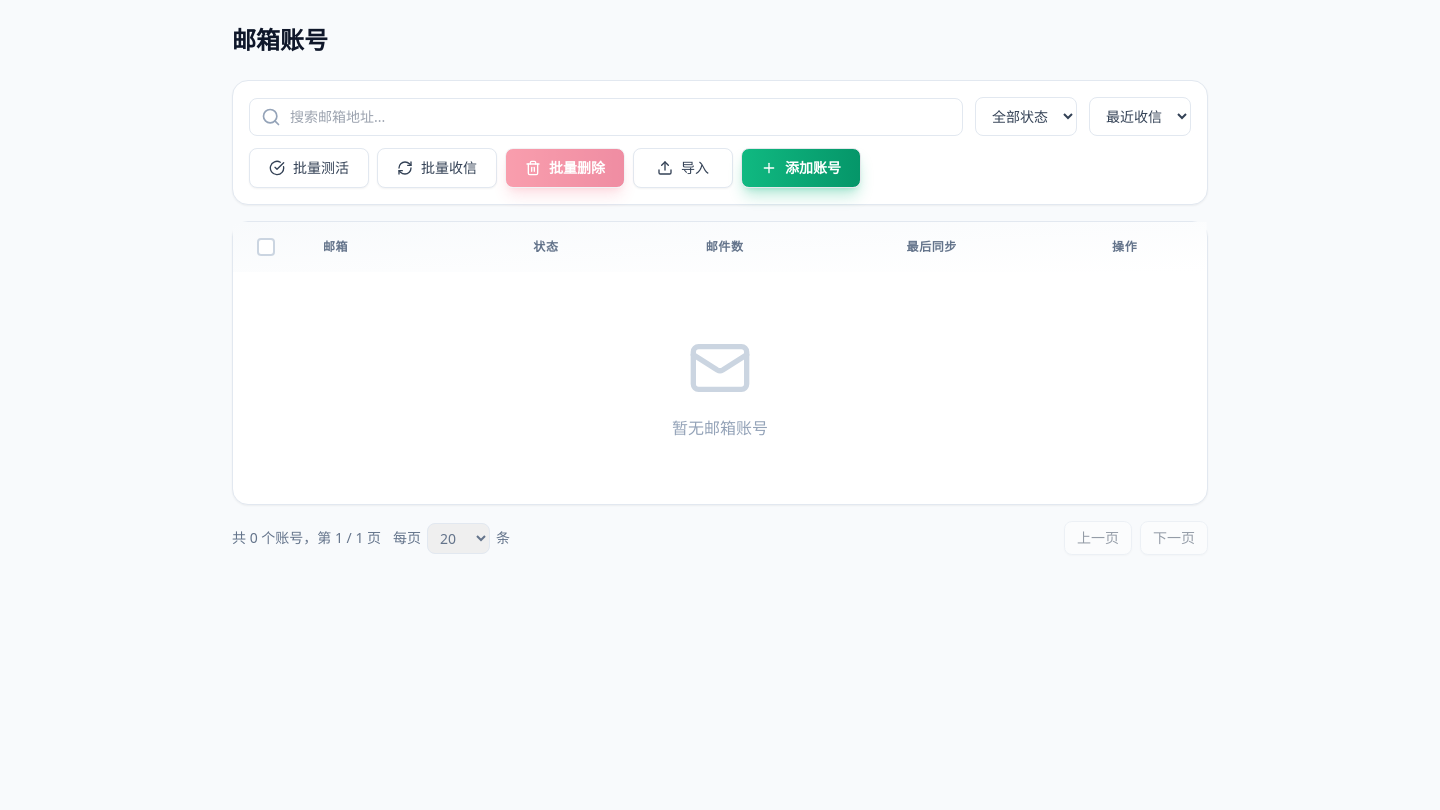
Test: AccountsPage › 通过弹窗新增账号后刷新列表
The image size is (1440, 810).
Click the button "添加账号".
click(801, 168)  # box [741,148,861,188]
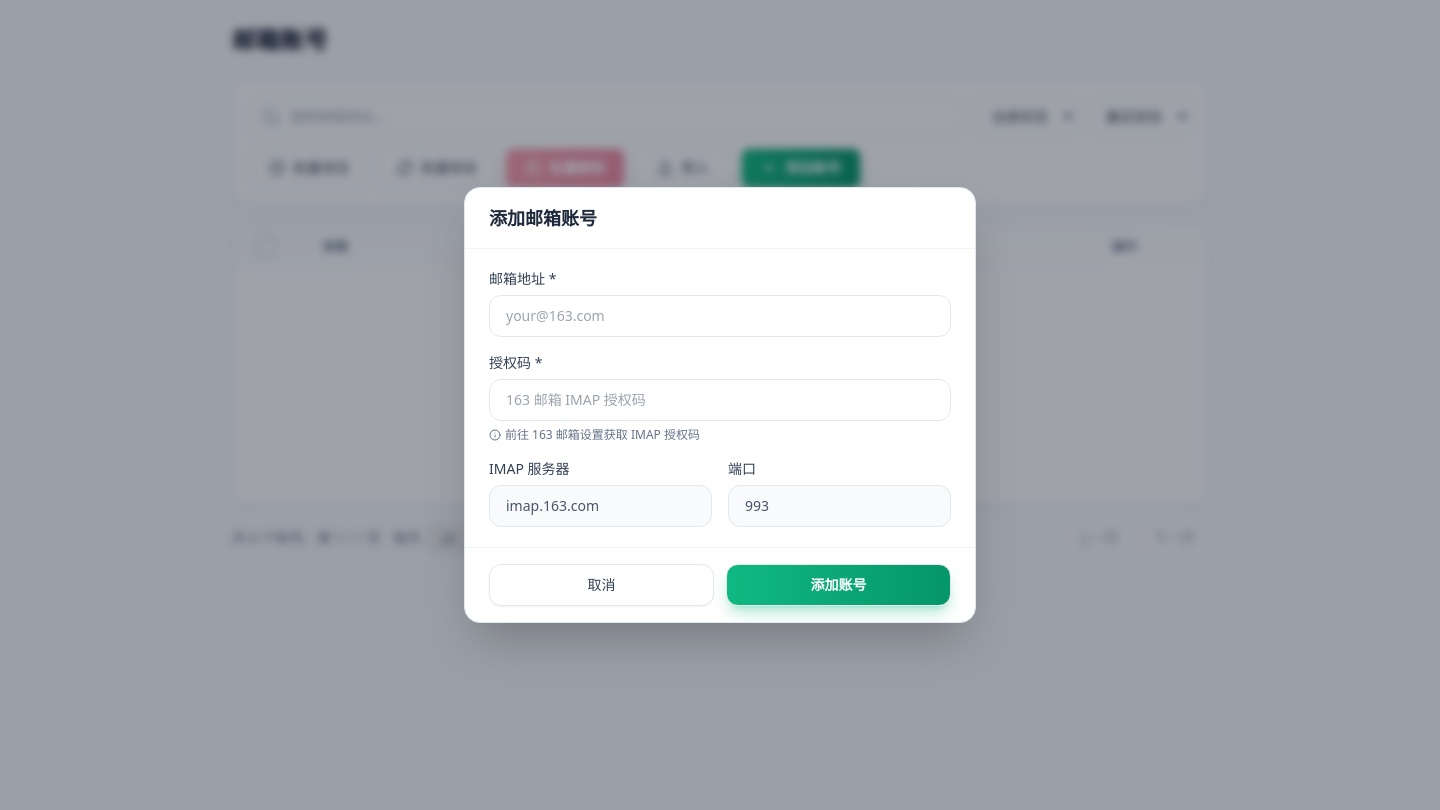
Type "new@163.com" into the field labelled "邮箱地址 *".
click(720, 316); type("new@163.com")  # box [489,295,951,337]
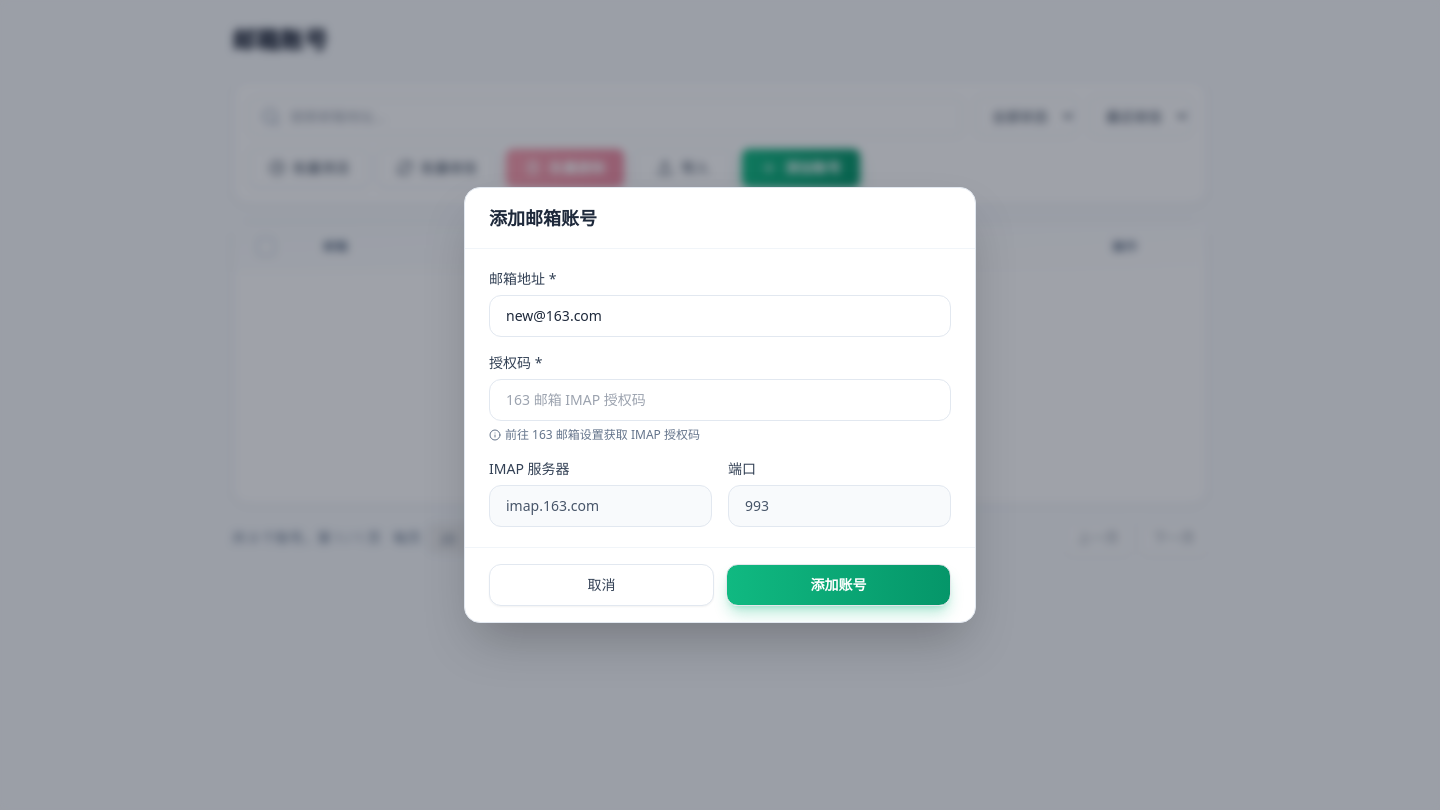
Type "auth-code" into the password field labelled "授权码 *".
click(720, 400); type("auth-code")  # box [489,379,951,421]
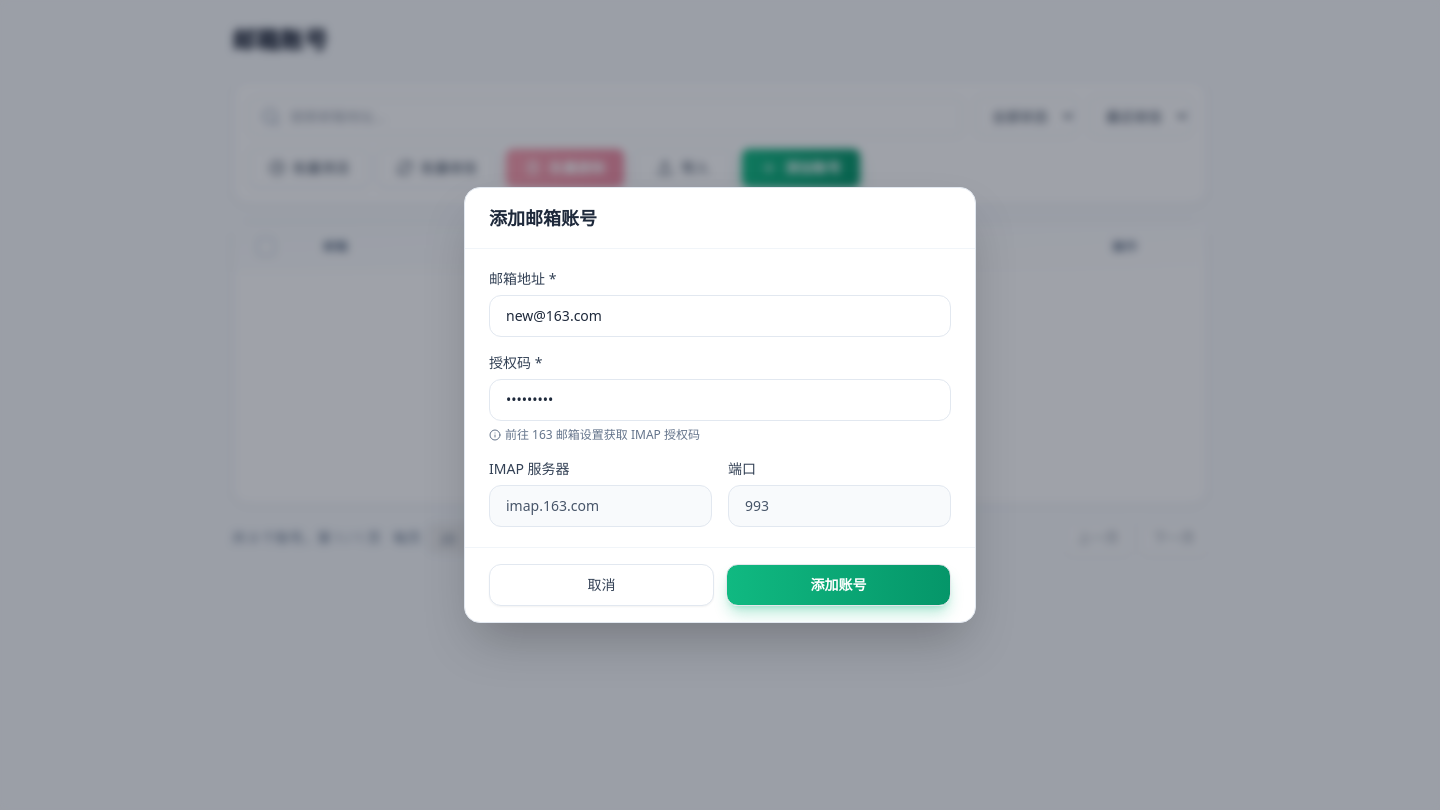
Click the button "添加账号".
click(838, 585)  # box [726,564,951,606]
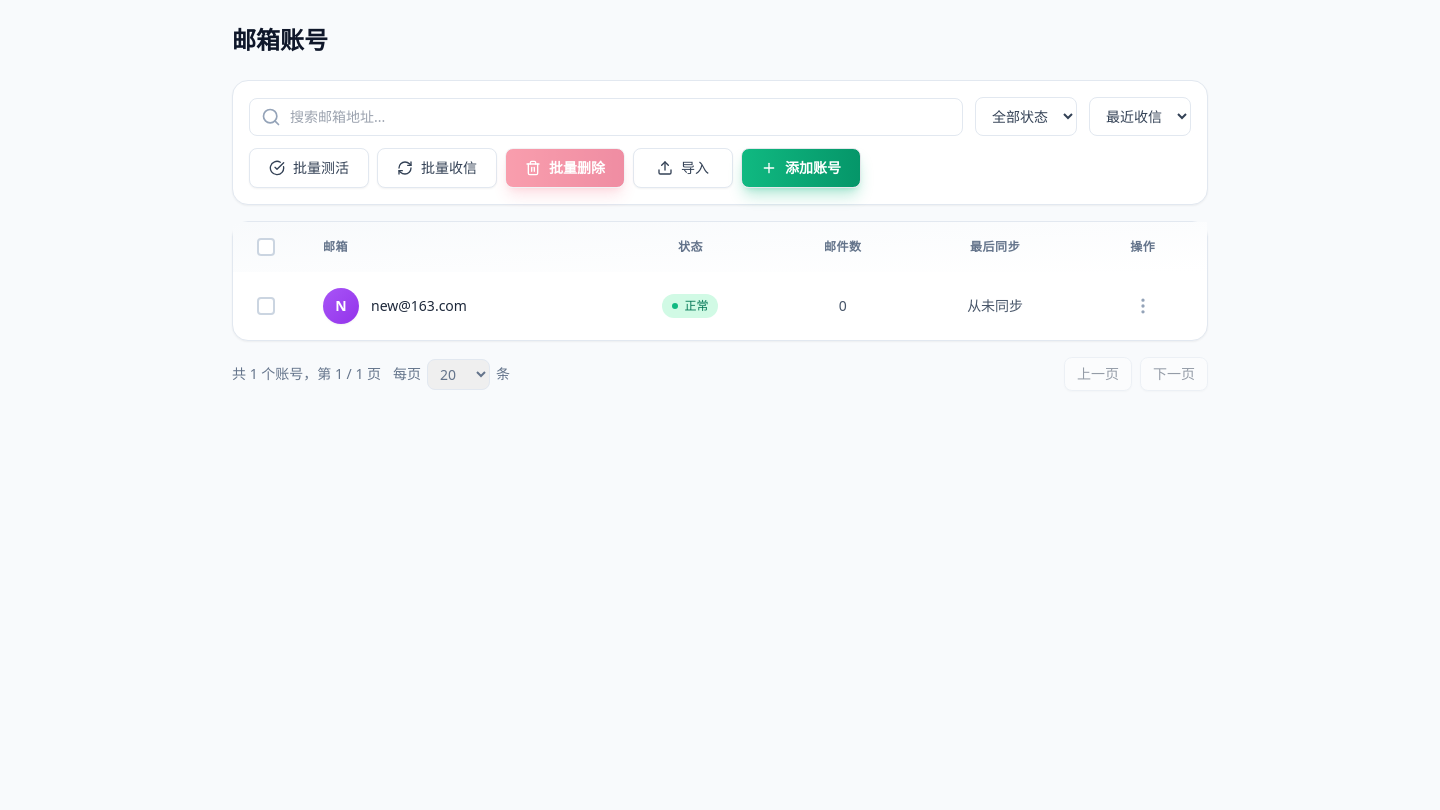
Result: the text "new@163.com" is shown at [371,296,467,316]
